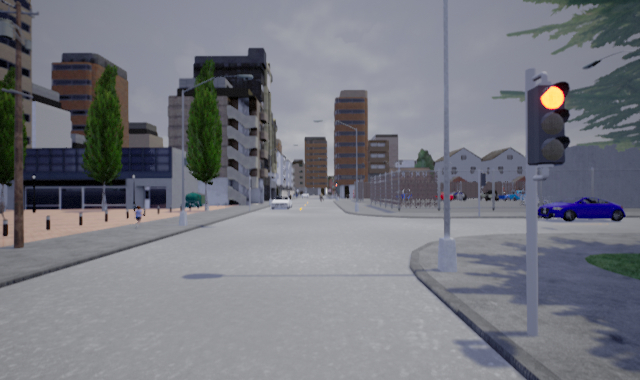pedestrian: (132, 204, 146, 228)
traffic_light: (526, 81, 569, 165)
vehicle: (536, 196, 625, 221), (476, 187, 498, 203), (270, 197, 293, 210), (497, 191, 521, 202), (448, 191, 469, 200)
